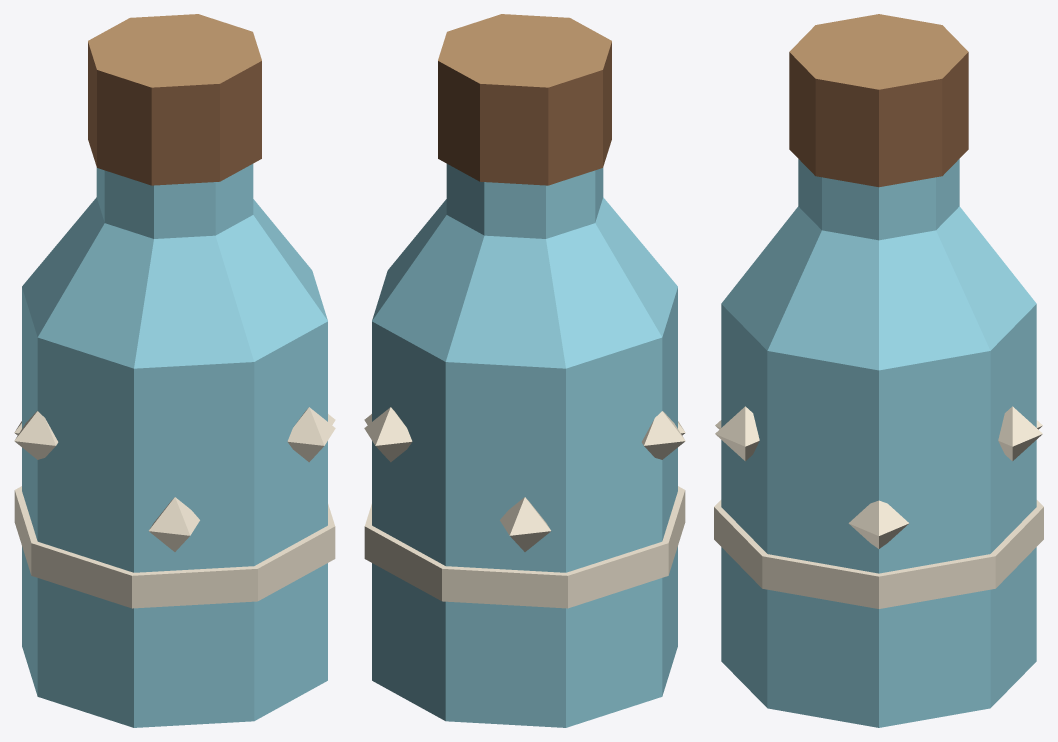
File: deco_fx_glitter.obj
The picture shows the model from 3 angles, left to right: view 1: azimuth 30°, elevation 25°; view 2: azimuth 150°, elevation 25°; view 3: azimuth 270°, elevation 25°; orthographic projection.
Visible parts, largest first — view 1: deco_fx_glitter; view 2: deco_fx_glitter; view 3: deco_fx_glitter.
Boxes of the visible parts, box(x1,y1,x2,y2) form: deco_fx_glitter: box(14, 14, 335, 727); deco_fx_glitter: box(364, 14, 685, 727); deco_fx_glitter: box(714, 14, 1043, 727).
Bounding box in the file's own units: 0.0206 × 0.0375 × 0.0184.
Materials: 1 (1 with a texture image).
